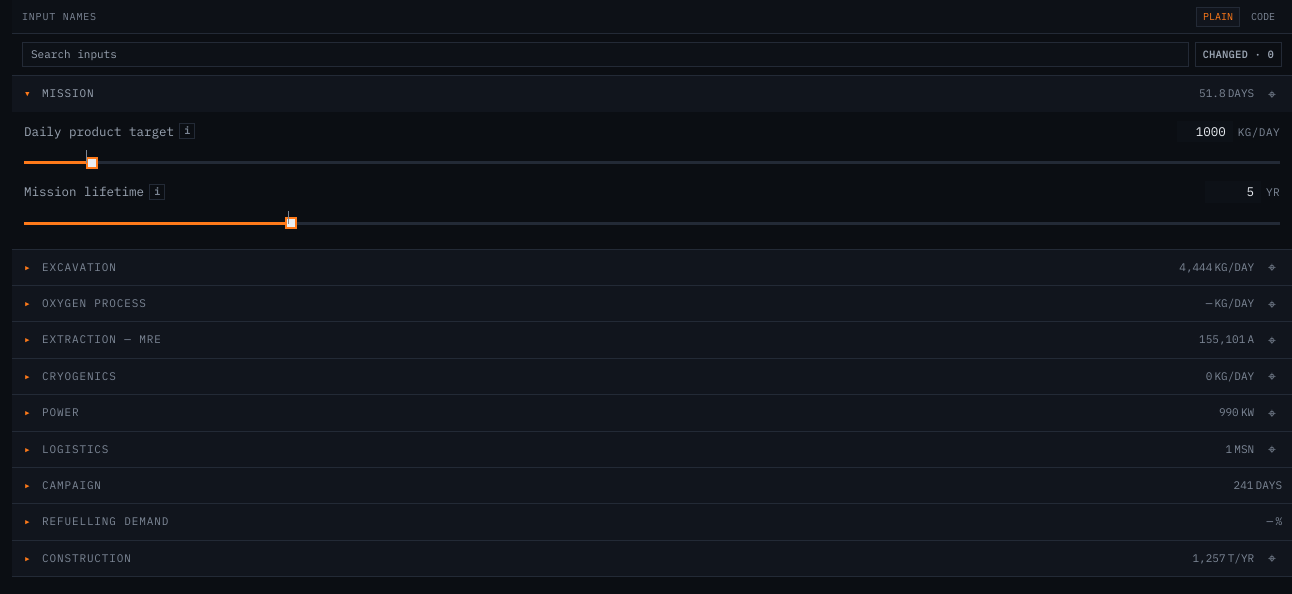
Test case: control rail search, changed filter, and reset › finds a select by searching its name
Type "lander charging" into the search field labelled "Search inputs".
click(605, 55); type("lander charging")  # box [22, 42, 1188, 67]
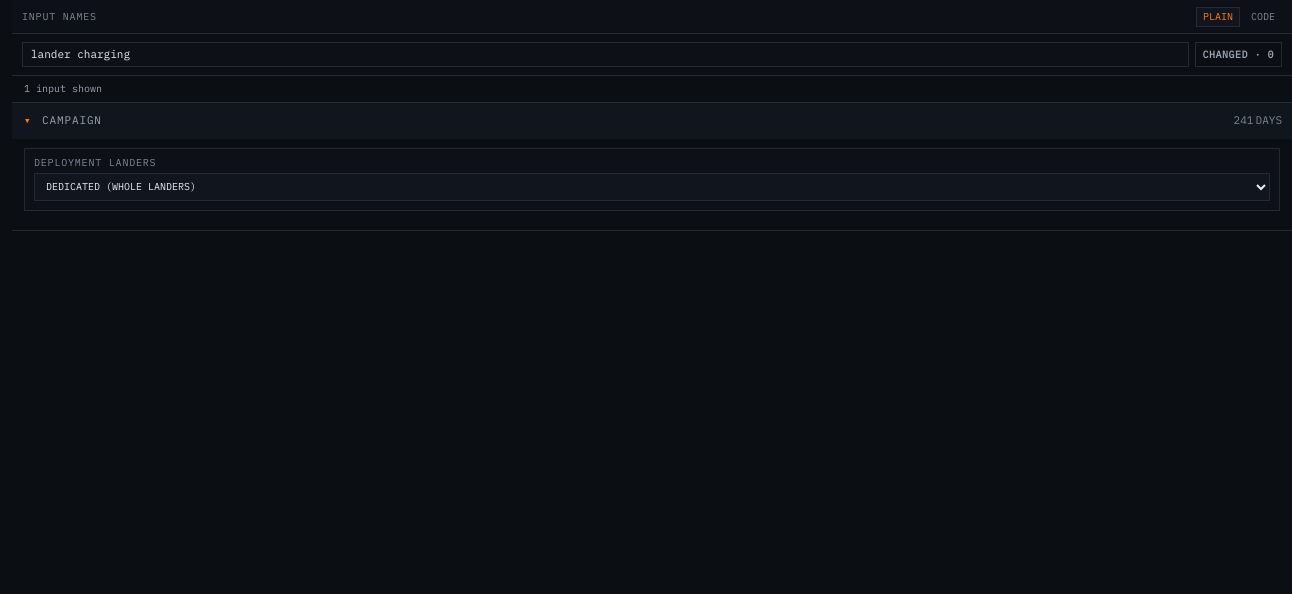
Expected: the dropdown showing "DEDICATED (WHOLE LANDERS)" is shown, [34, 173, 1270, 201]
Expected: the text "1 input shown" is shown, [12, 76, 1291, 103]
